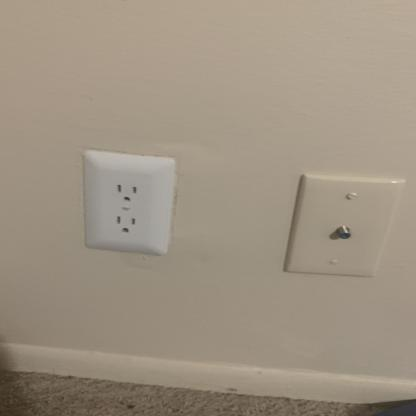OUTLET: (82, 150, 172, 255)
